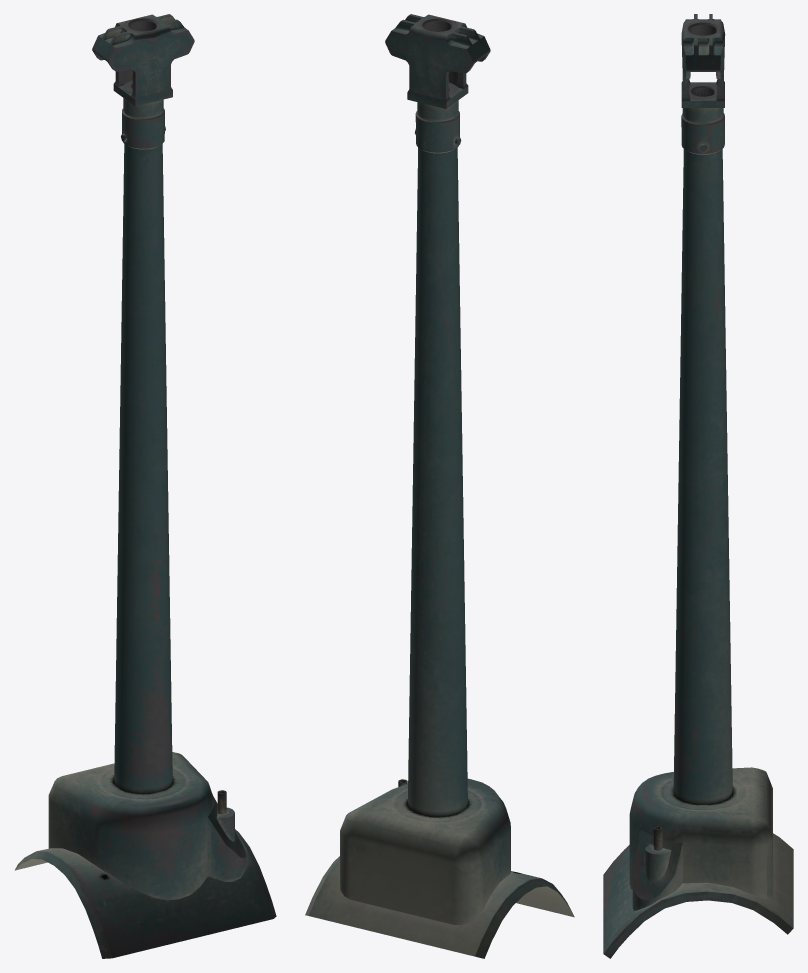
The model's file is Gun_04.glb.
The picture shows the model from 3 angles, left to right: view 1: azimuth 30°, elevation 25°; view 2: azimuth 150°, elevation 25°; view 3: azimuth 270°, elevation 25°; orthographic projection. The views are drawn at different scales.
Parts seen in each view (by area): view 1: set_0_group_0; view 2: set_0_group_0; view 3: set_0_group_0.
Boxes of the visible parts, bbox=[...] form: set_0_group_0: bbox=[14, 14, 276, 958]; set_0_group_0: bbox=[305, 14, 574, 958]; set_0_group_0: bbox=[603, 14, 793, 958].
Bounding box in the file's own units: 0.7835 × 3.78 × 0.7331.
Materials: 1 (1 with a texture image).
